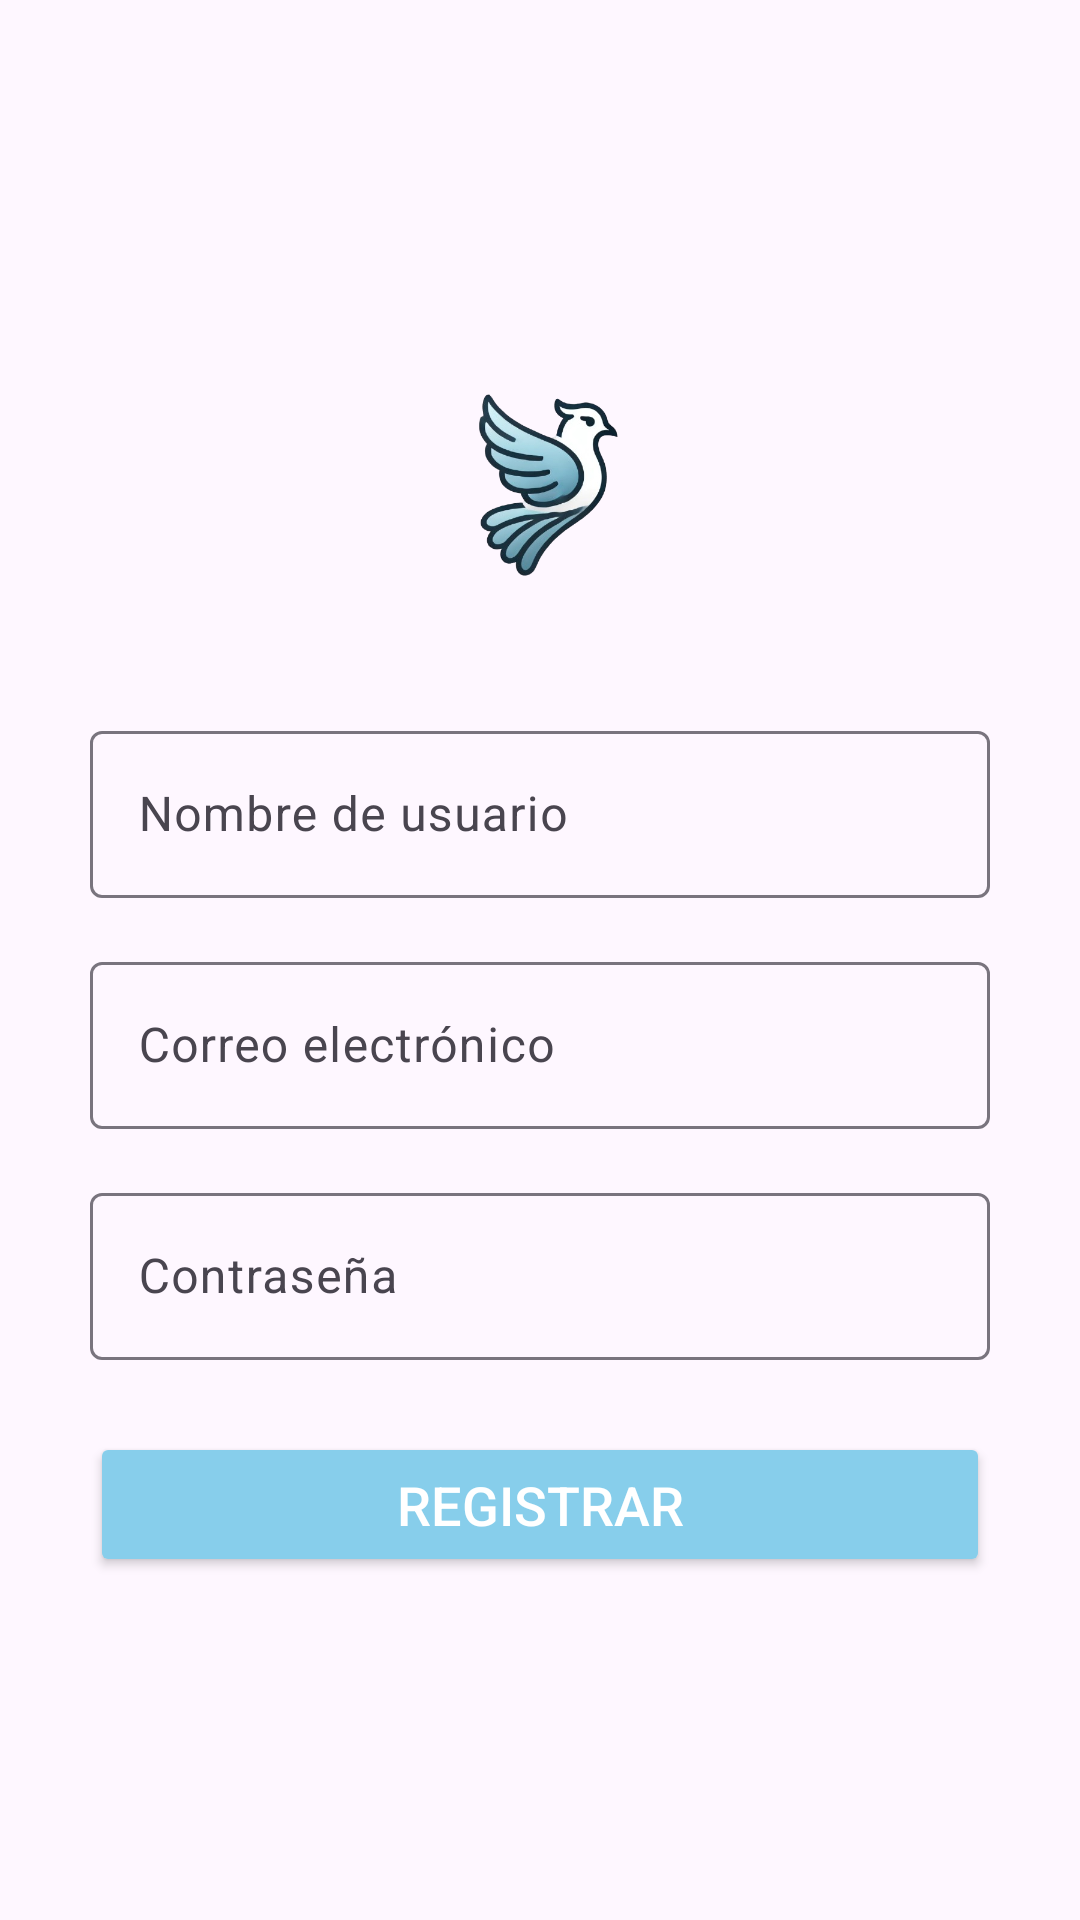

Where icons sit on this 1080px x 1920px app screen, as [x1,y1,x2,y2]:
palomar: [479,394,618,576]
